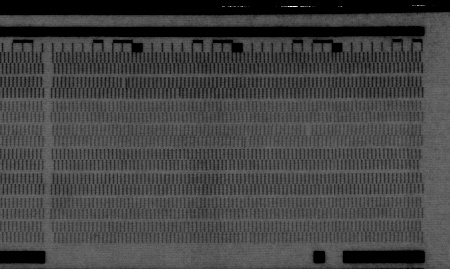Broken hole: (304, 124, 314, 137)
Oblique printing: (119, 76, 131, 89), (174, 87, 186, 100), (239, 137, 251, 150)
